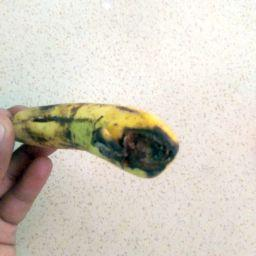banana: (11, 99, 180, 182)
